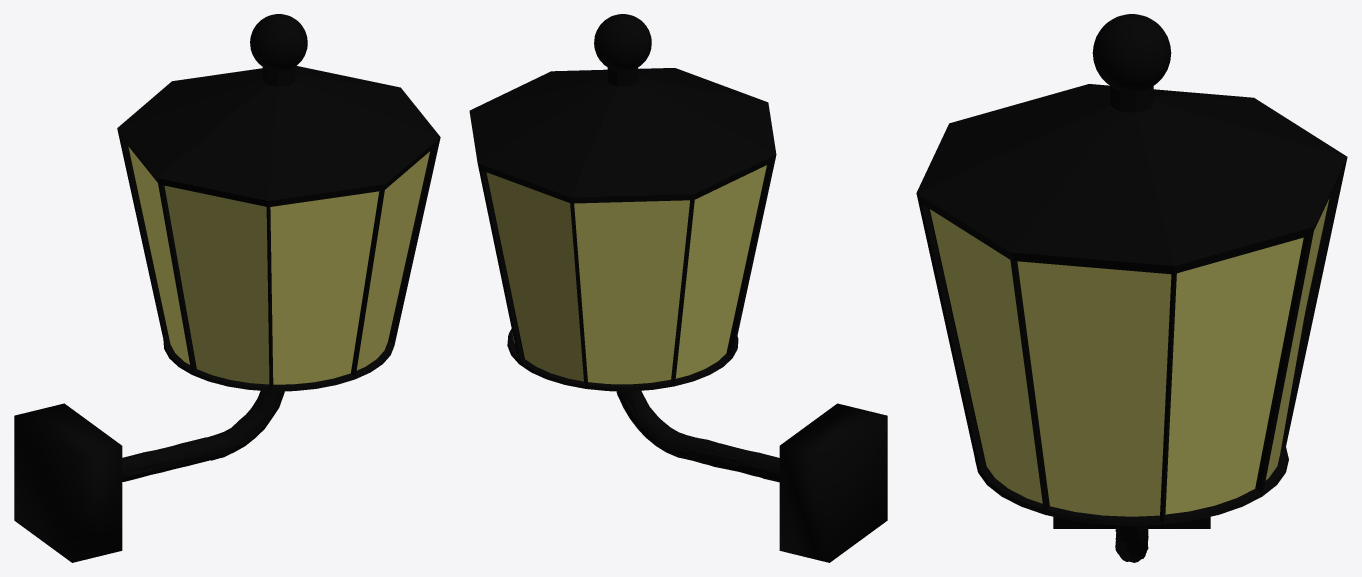
The model's file is lantaarn.glb.
3 views of the same model, side by side, from view 1: azimuth 30°, elevation 25°; view 2: azimuth 150°, elevation 25°; view 3: azimuth 270°, elevation 25° (orthographic). The views are drawn at different scales.
Visible parts, largest first — view 1: Cylinder.001, Cube, Cylinder, Sphere; view 2: Cylinder.001, Cube, Cylinder, Sphere; view 3: Cylinder.001, Sphere, Cylinder, Cube.
Part boxes in pixels (bbox=[...]): Cylinder.001: bbox=[117, 66, 440, 391]; Cube: bbox=[14, 403, 122, 562]; Cylinder: bbox=[122, 390, 284, 481]; Sphere: bbox=[250, 14, 307, 71]; Cylinder.001: bbox=[469, 67, 776, 391]; Cube: bbox=[779, 403, 887, 562]; Cylinder: bbox=[616, 390, 779, 482]; Sphere: bbox=[594, 14, 651, 71]; Cylinder.001: bbox=[916, 84, 1347, 525]; Sphere: bbox=[1092, 14, 1171, 91]; Cylinder: bbox=[1115, 525, 1148, 562]; Cube: bbox=[1053, 517, 1210, 528].
Bounding box in the file's own units: 0.3723 × 0.4456 × 0.2746.
